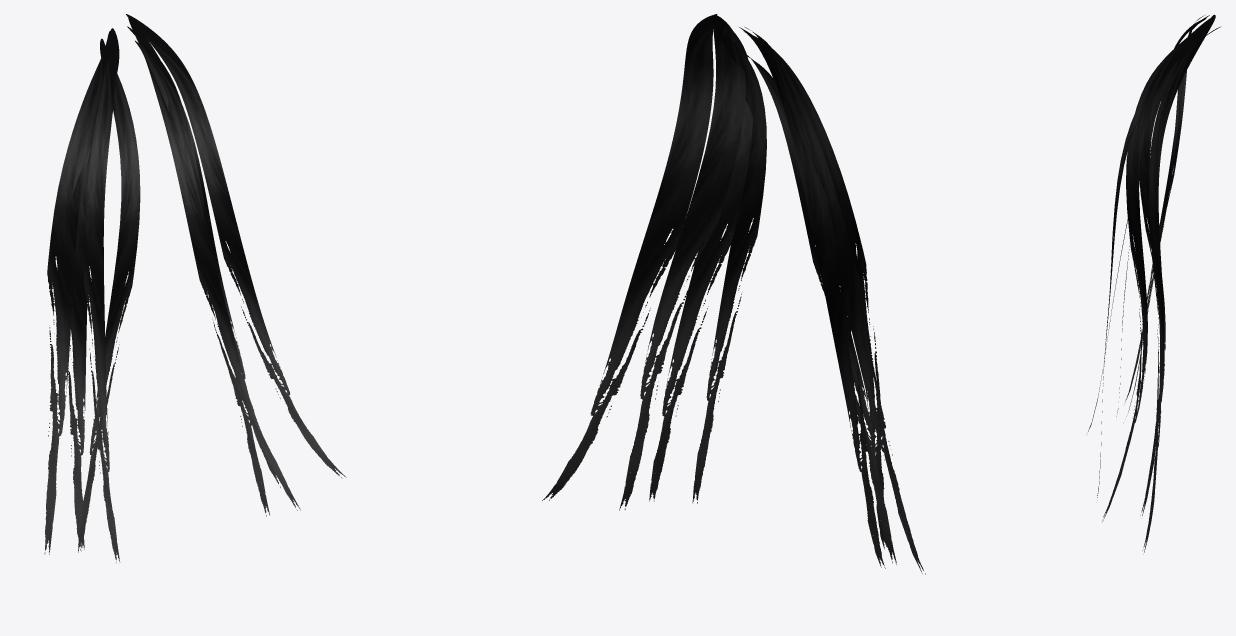
File: hair ele.fbx
The picture shows the model from 3 angles, left to right: view 1: azimuth 30°, elevation 25°; view 2: azimuth 150°, elevation 25°; view 3: azimuth 270°, elevation 25°; orthographic projection. The views are drawn at different scales.
Parts seen in each view (by area): view 1: Plane_001; view 2: Plane_001; view 3: Plane_001.
Boxes of the visible parts, x1=… form: Plane_001: x1=44, y1=14, x2=346, y2=562; Plane_001: x1=542, y1=14, x2=925, y2=574; Plane_001: x1=1088, y1=14, x2=1220, y2=552.
Bounding box in the file's own units: 378 × 425 × 148.
